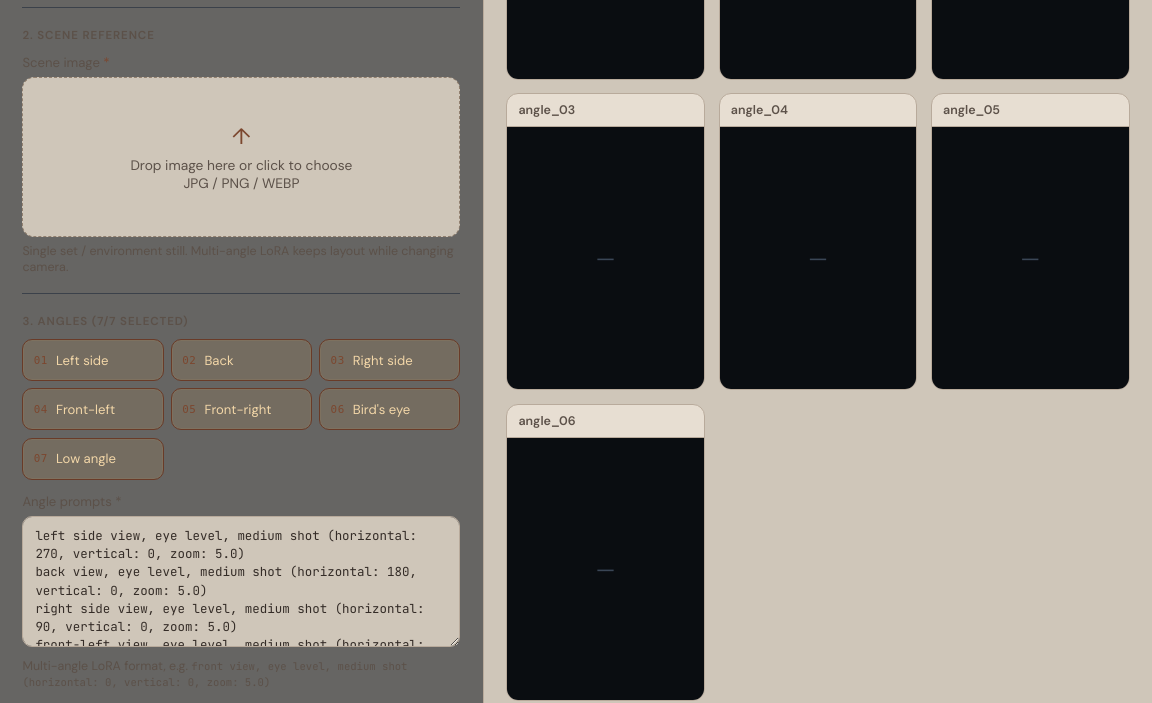
SetDesignPage › re-enables every view when the form is reset
(page scrolled)
Click the button "01 Left side".
click(93, 360)  # box [22,339,164,381]
(page scrolled)
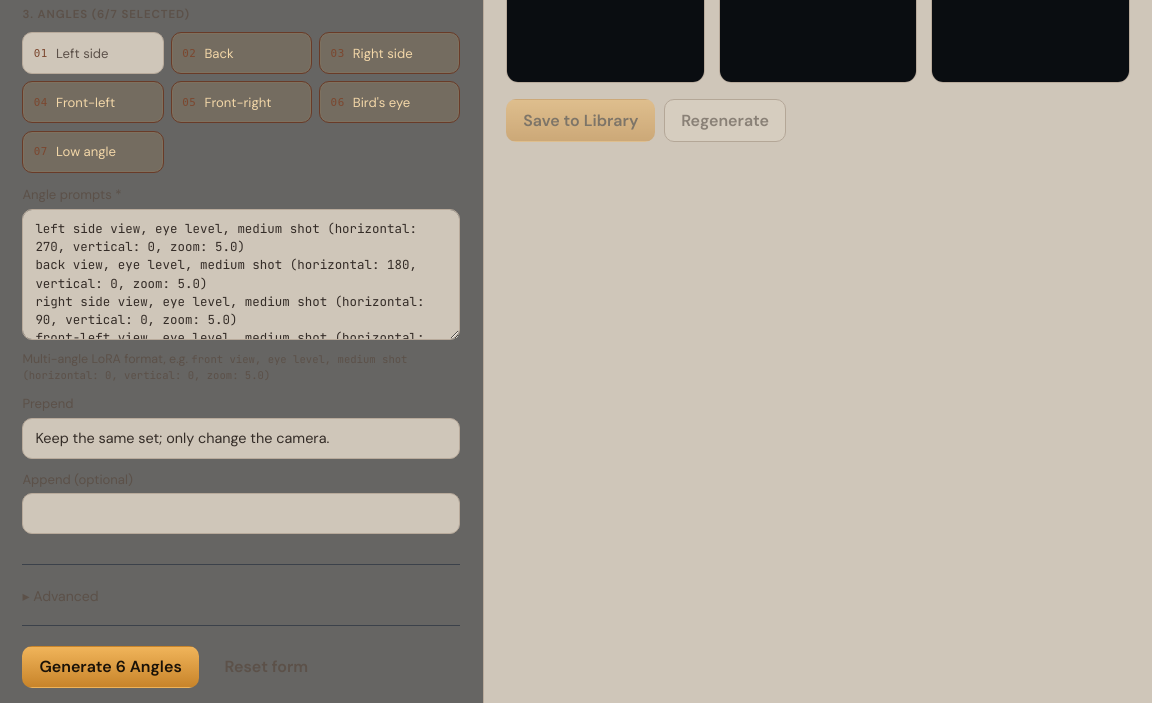
Click the button "Reset form".
click(266, 667)  # box [208,646,325,688]
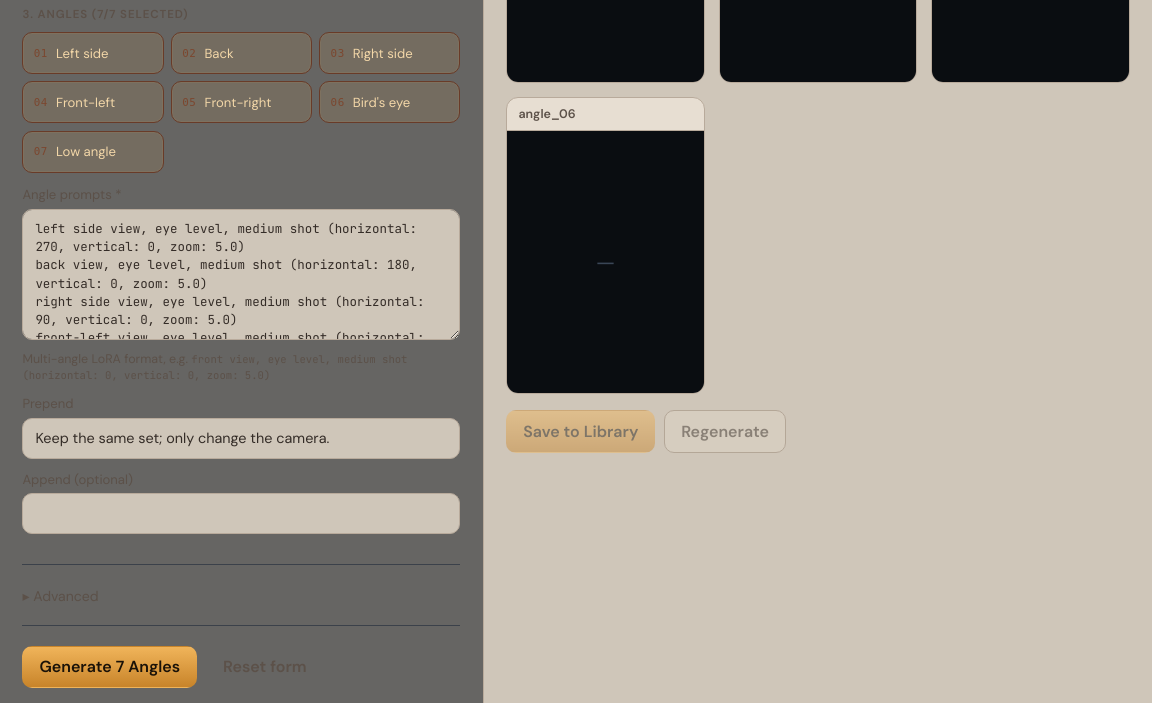
Expected: the button "Generate 7 Angles" is shown, [22,646,197,688]
Expected: the number of elements with class "output-card" is 7
